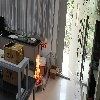fire: (34, 53, 41, 85)
